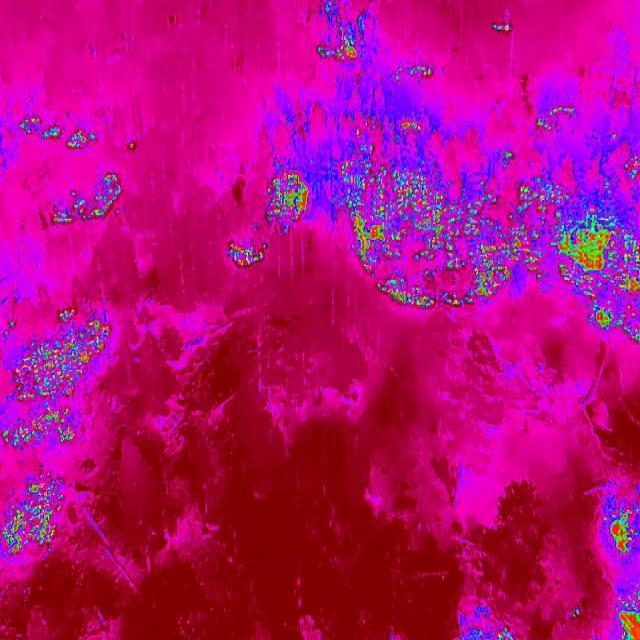fire: (330, 108, 544, 322), (0, 306, 112, 458), (550, 197, 640, 343), (0, 471, 67, 559), (40, 168, 125, 234), (262, 158, 313, 240), (18, 116, 96, 153), (450, 609, 524, 640), (609, 506, 640, 560), (389, 58, 442, 87), (314, 33, 359, 65), (224, 238, 266, 272), (616, 602, 640, 640), (548, 98, 578, 120), (488, 19, 513, 37), (124, 135, 140, 155), (568, 604, 580, 618)
